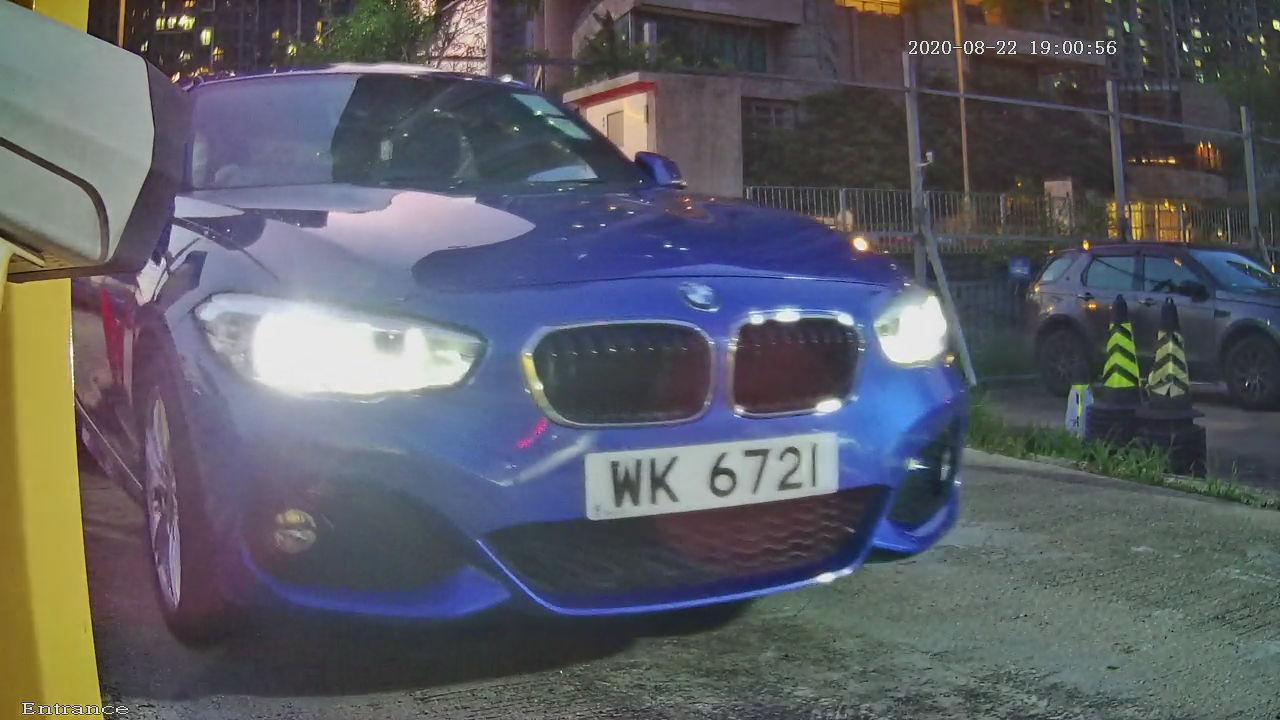Car: (18, 4, 1035, 704)
License Plate: (520, 390, 906, 553)
